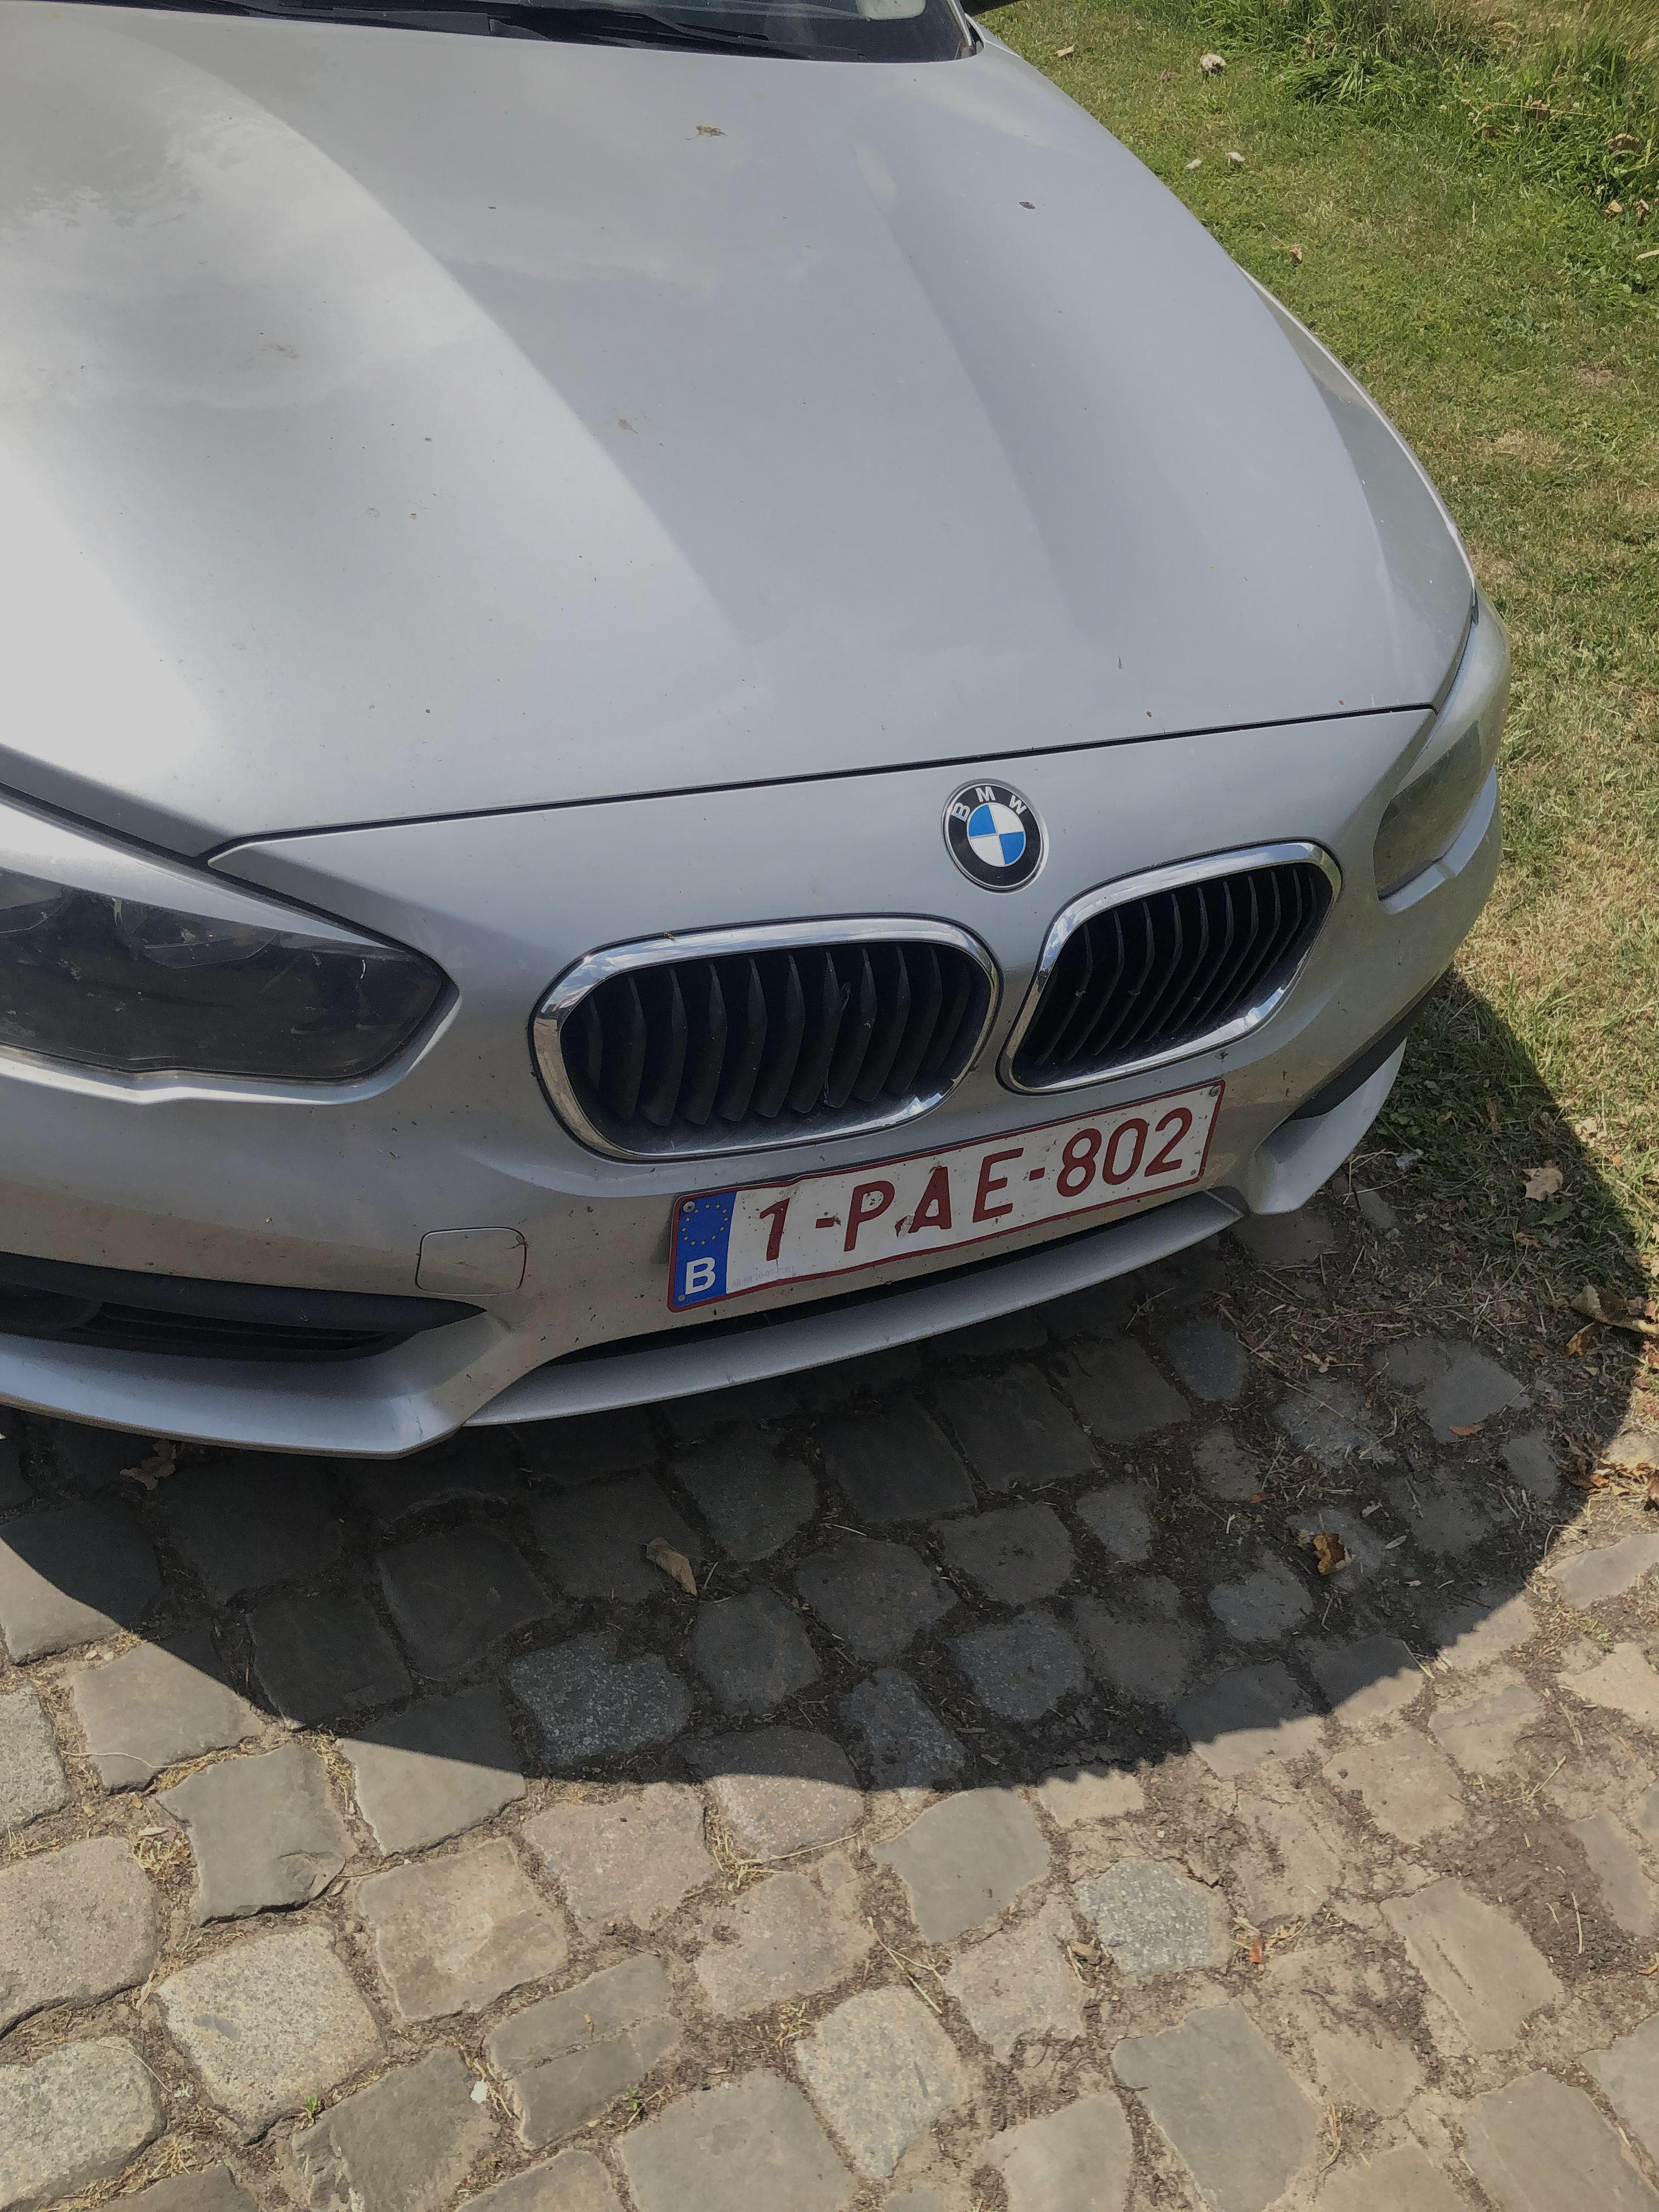plate: (651, 1064, 1234, 1324)
